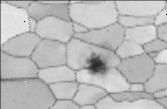good_void: (84, 50, 107, 76)
